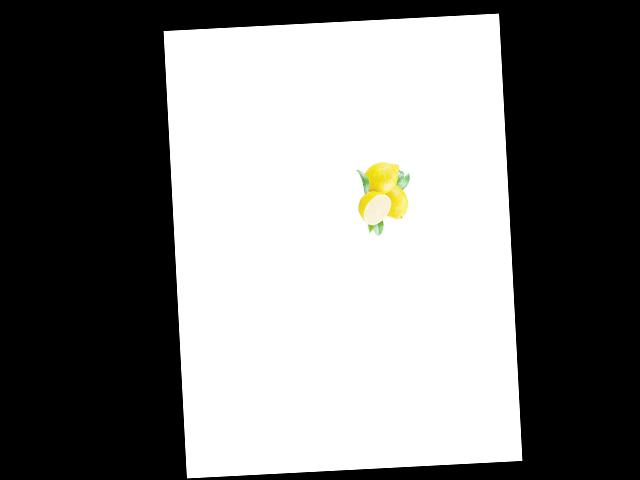lemon: (359, 158, 405, 196)
